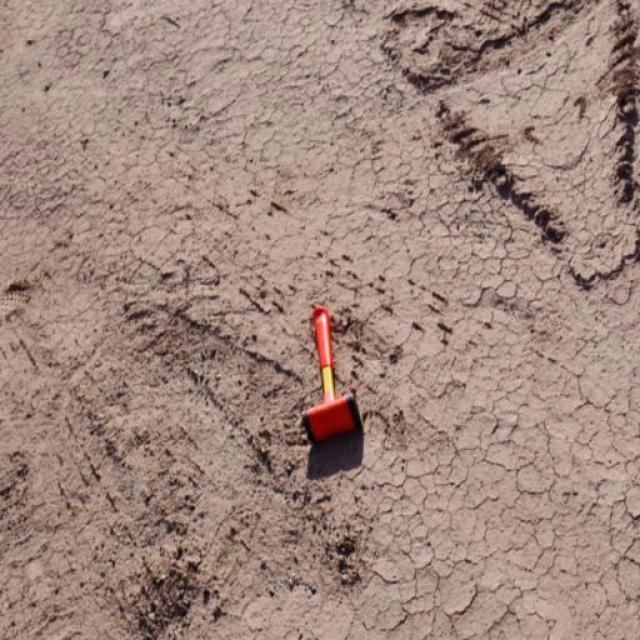mallet: (301, 303, 364, 447)
